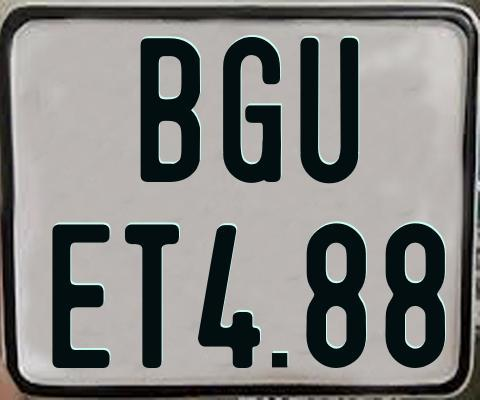4: (198, 224, 266, 372)
8: (303, 220, 366, 367), (384, 222, 447, 369)
B: (138, 37, 198, 186)
E: (52, 221, 115, 367)
G: (220, 34, 279, 180)
T: (122, 223, 182, 368)
U: (297, 35, 358, 181)
